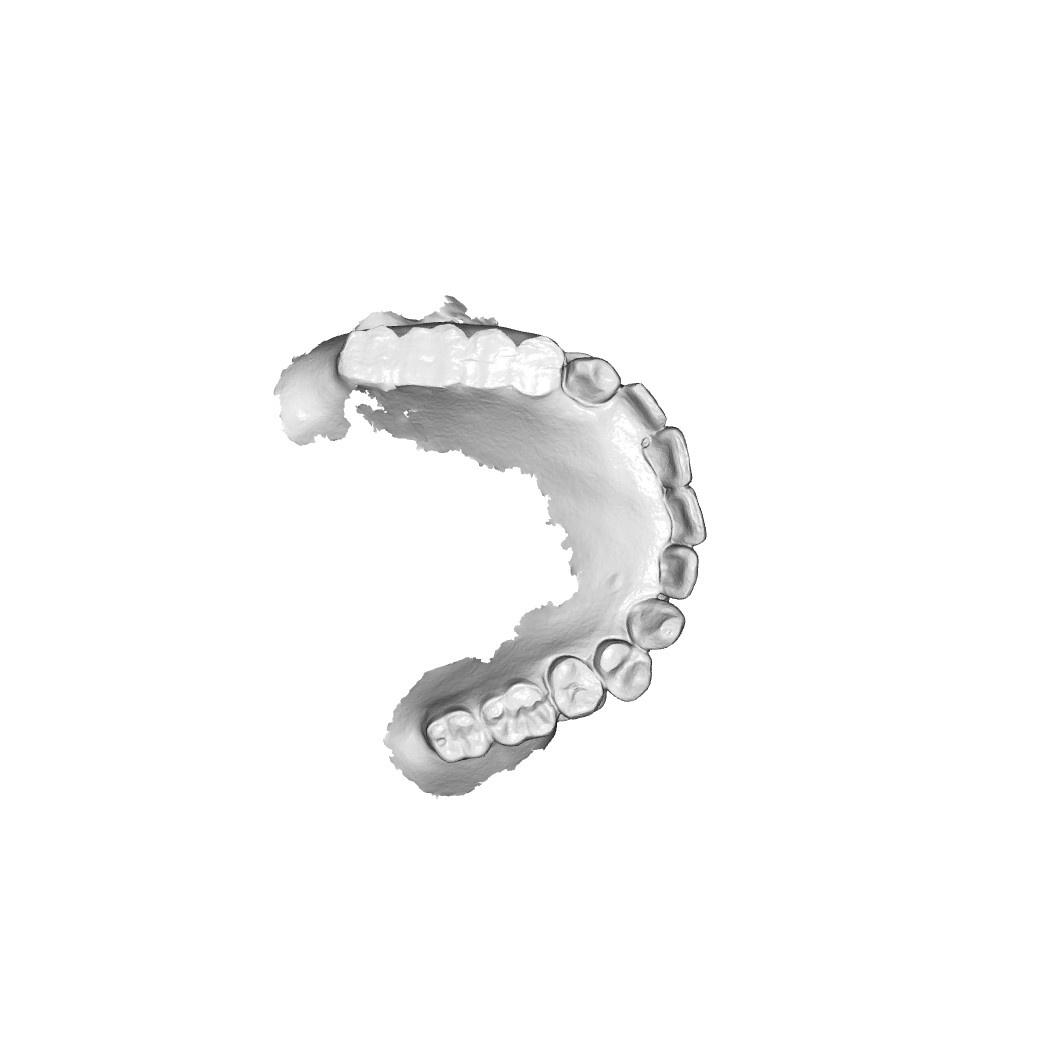canine: (623, 598, 687, 648), (565, 355, 621, 406)
incisor: (650, 425, 697, 486), (622, 378, 662, 434), (667, 490, 704, 545), (659, 543, 696, 596)
molar: (484, 678, 552, 747), (402, 323, 469, 386), (338, 329, 401, 386), (426, 706, 488, 761)
premolar: (593, 642, 650, 701), (550, 657, 599, 715), (471, 328, 514, 390), (515, 336, 558, 394)
